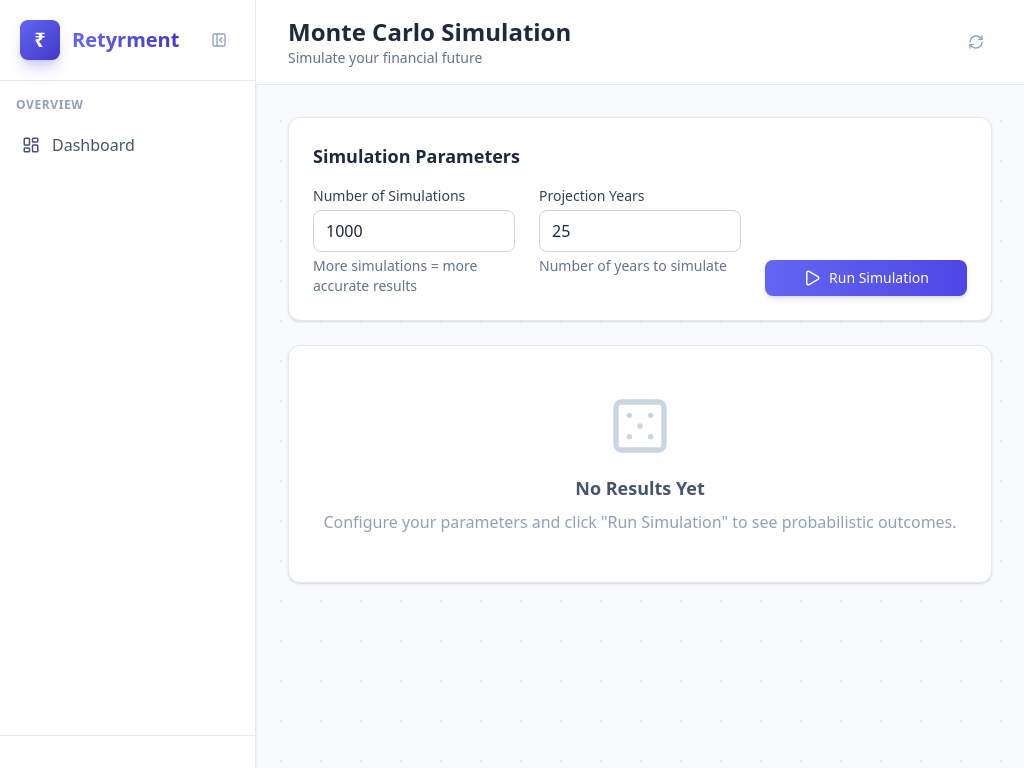
Test: Simulation › Edge Cases › runs multiple simulations sequentially
# First simulation
Click the button "Run Simulation": (866, 278) [765, 260, 967, 296]
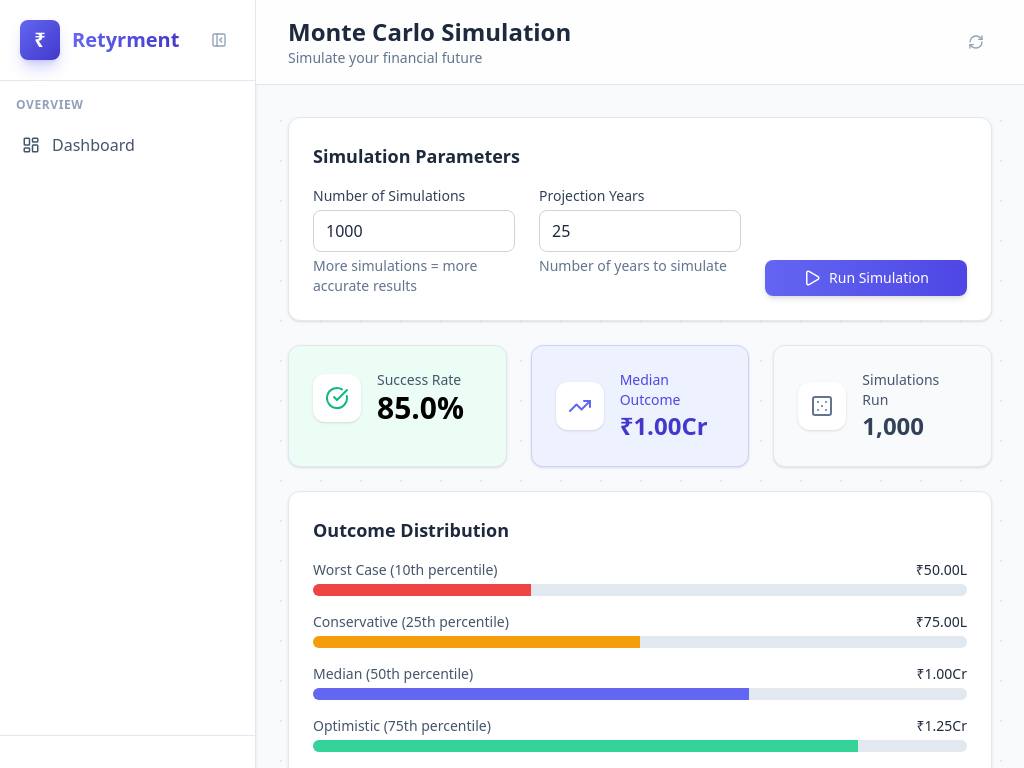
Check: the text "85.0%" is shown, box [377, 390, 464, 426]
Click the button "Run Simulation": (866, 278) [765, 260, 967, 296]
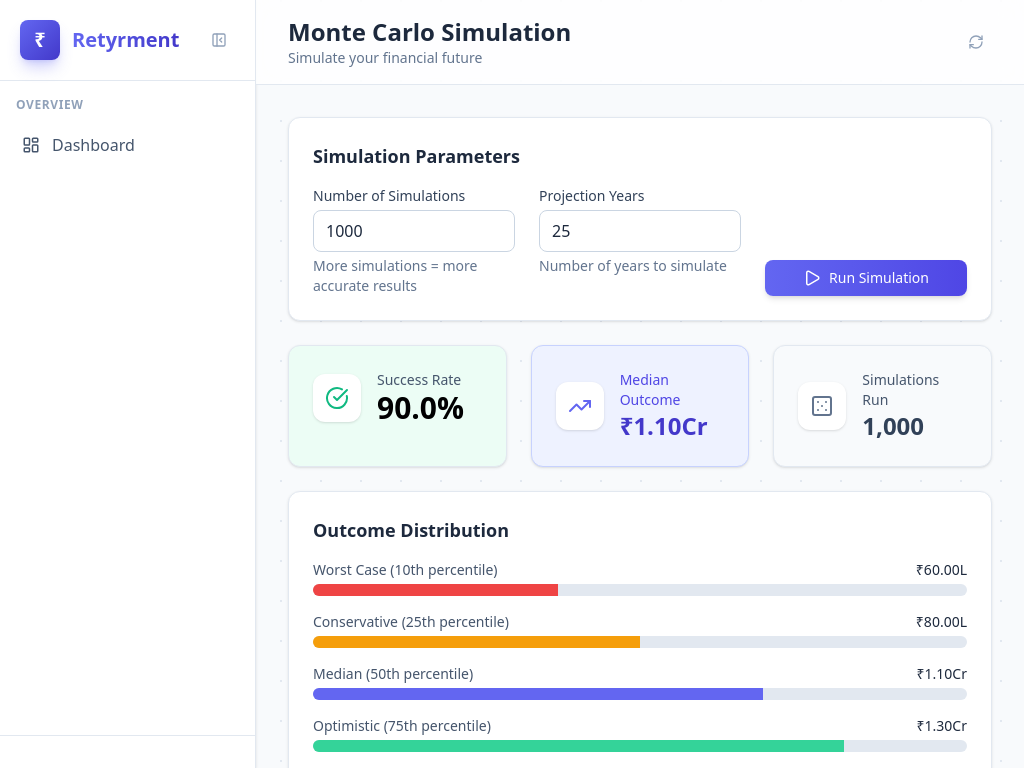
Check: the text "90.0%" is shown, box [377, 390, 464, 426]
